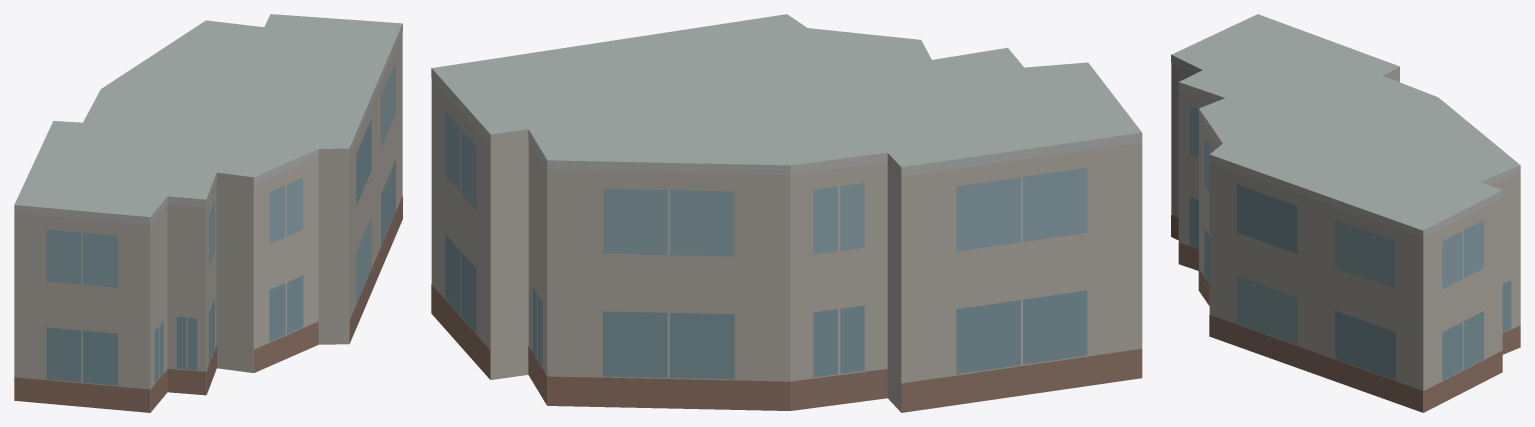
File: survey-upis-32973931.glb
The picture shows the model from 3 angles, left to right: view 1: azimuth 30°, elevation 25°; view 2: azimuth 150°, elevation 25°; view 3: azimuth 270°, elevation 25°; orthographic projection. The views are drawn at different scales.
Visible parts, largest first — view 1: survey-upis-32973931.tmp; view 2: survey-upis-32973931.tmp; view 3: survey-upis-32973931.tmp.
Boxes of the visible parts, x1,y1,x2,y2 form: survey-upis-32973931.tmp: (14,14,402,412); survey-upis-32973931.tmp: (431,14,1142,412); survey-upis-32973931.tmp: (1171,14,1520,412).
Size of the model in its own units: 15.58 by 6.1 by 10.62.
